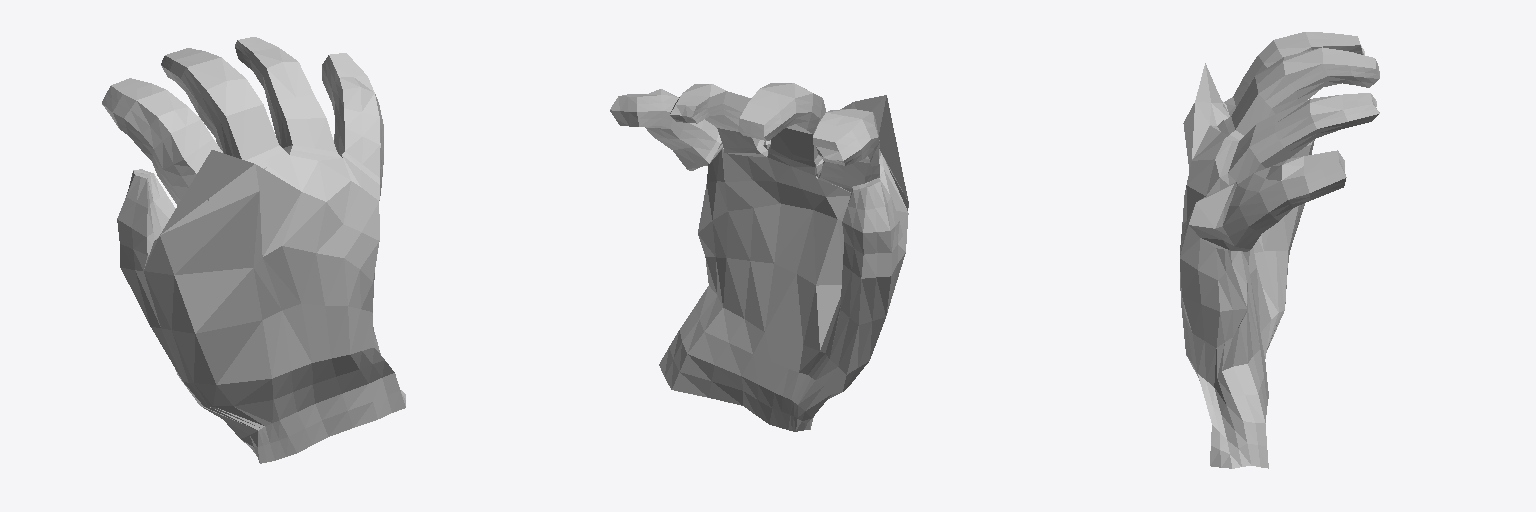
The model's file is hand_sub2_triang0035.obj.
3 renders of one model, left to right at view 1: azimuth 30°, elevation 25°; view 2: azimuth 150°, elevation 25°; view 3: azimuth 270°, elevation 25°, orthographic.
Parts seen in each view (by area): view 1: Hand; view 2: Hand; view 3: Hand.
Boxes of the visible parts, x1,y1,x2,y2 form: Hand: [102, 37, 405, 463]; Hand: [610, 83, 908, 431]; Hand: [1180, 32, 1379, 468].
Bounding box in the file's own units: 2.9 × 3.95 × 1.93.